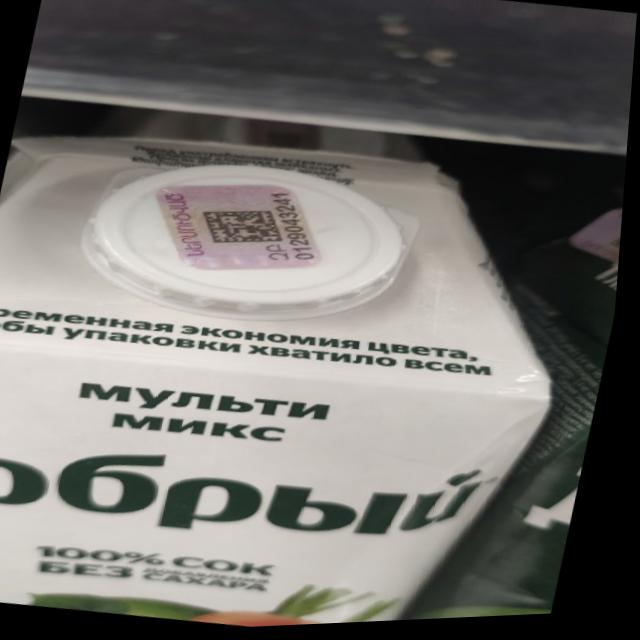datamatrix: (199, 202, 296, 259)
